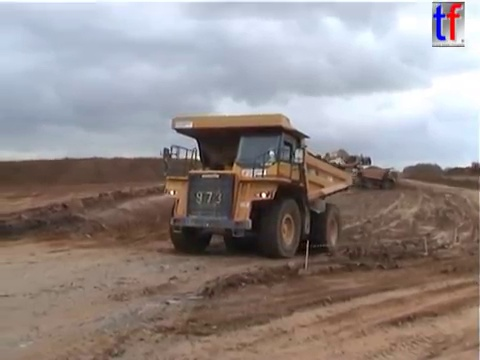excavator: (308, 147, 373, 173)
truck: (158, 112, 355, 260), (357, 165, 400, 190), (326, 164, 357, 190)
